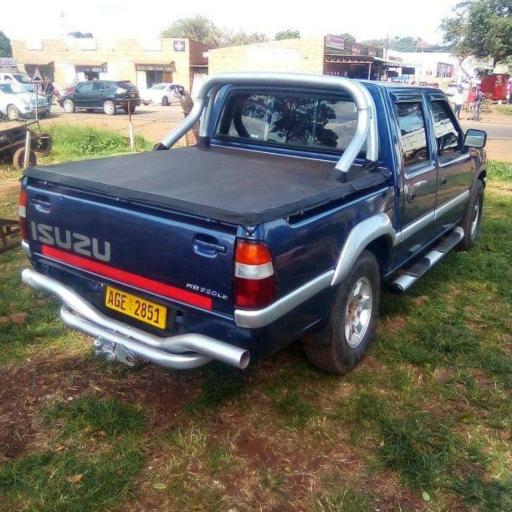number-plates: (106, 283, 163, 326)
